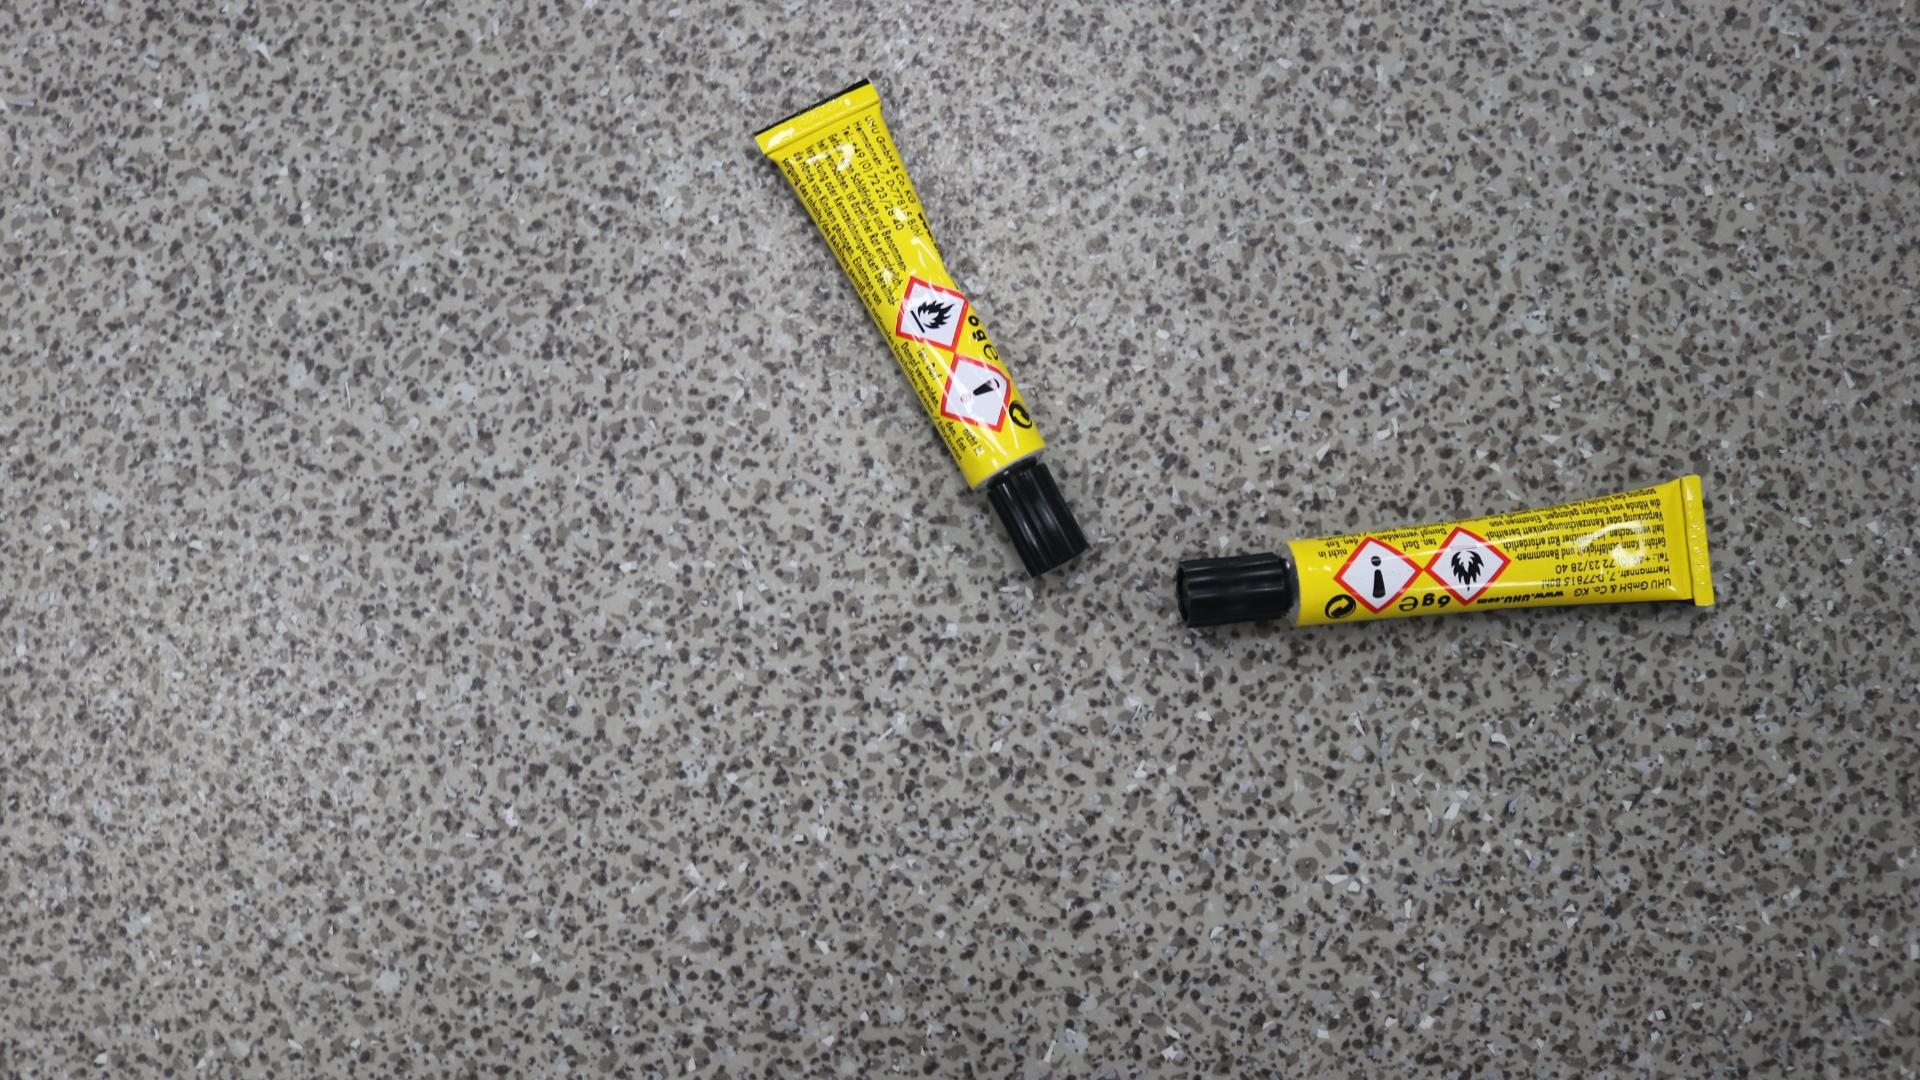Head: (1033, 512, 1041, 520), (1233, 581, 1241, 588)
Tail: (808, 117, 816, 124), (1694, 533, 1701, 541)
Tube: (756, 78, 1093, 580), (1174, 473, 1714, 627)
